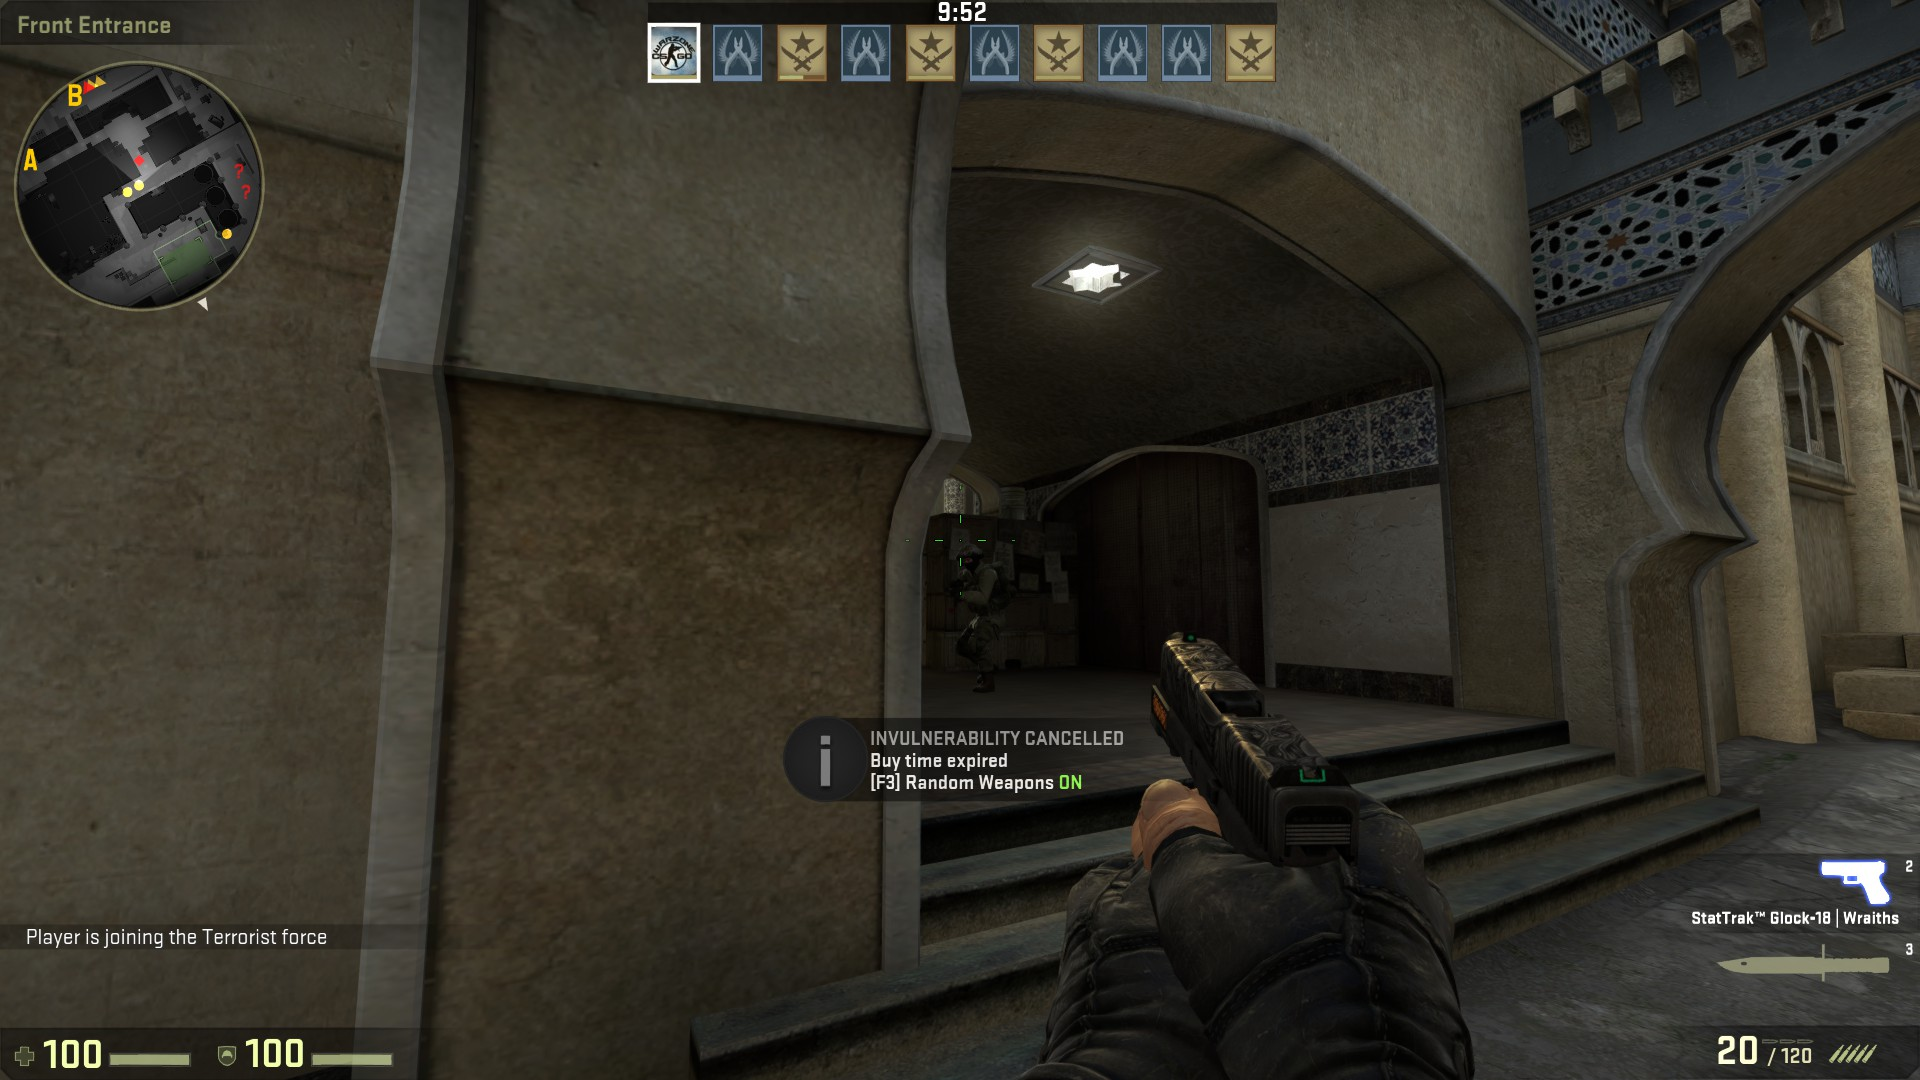c: (943, 534, 1015, 695)
ch: (957, 543, 984, 576)
